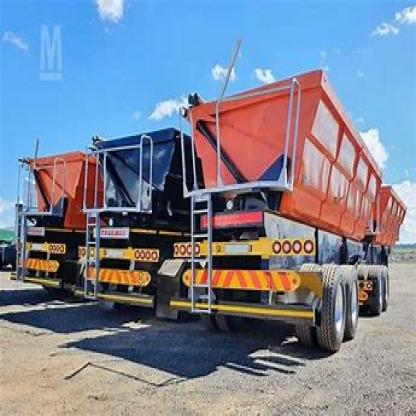dump_truck: (178, 41, 415, 364), (77, 98, 192, 328), (1, 123, 88, 303)
